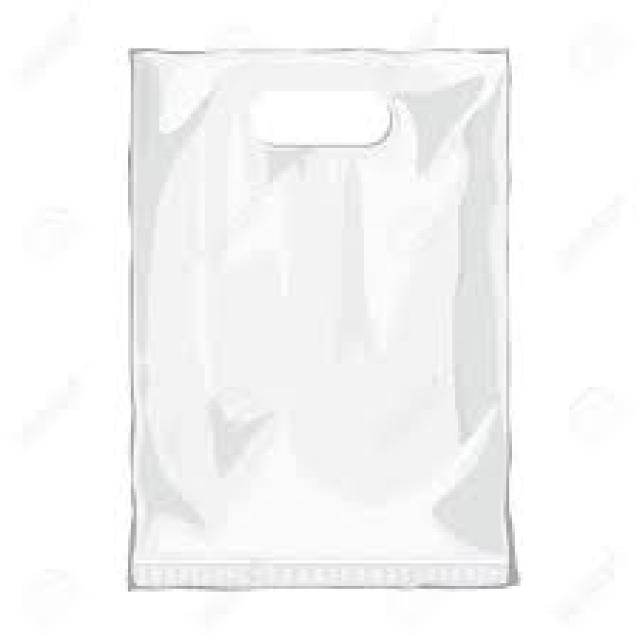plastic: (125, 43, 515, 586)
